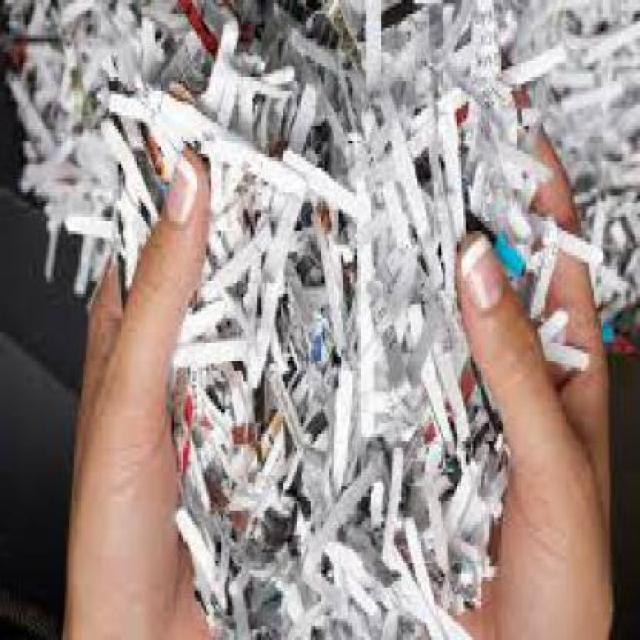PAPER: (174, 3, 495, 639), (494, 3, 638, 379), (3, 3, 160, 297)
